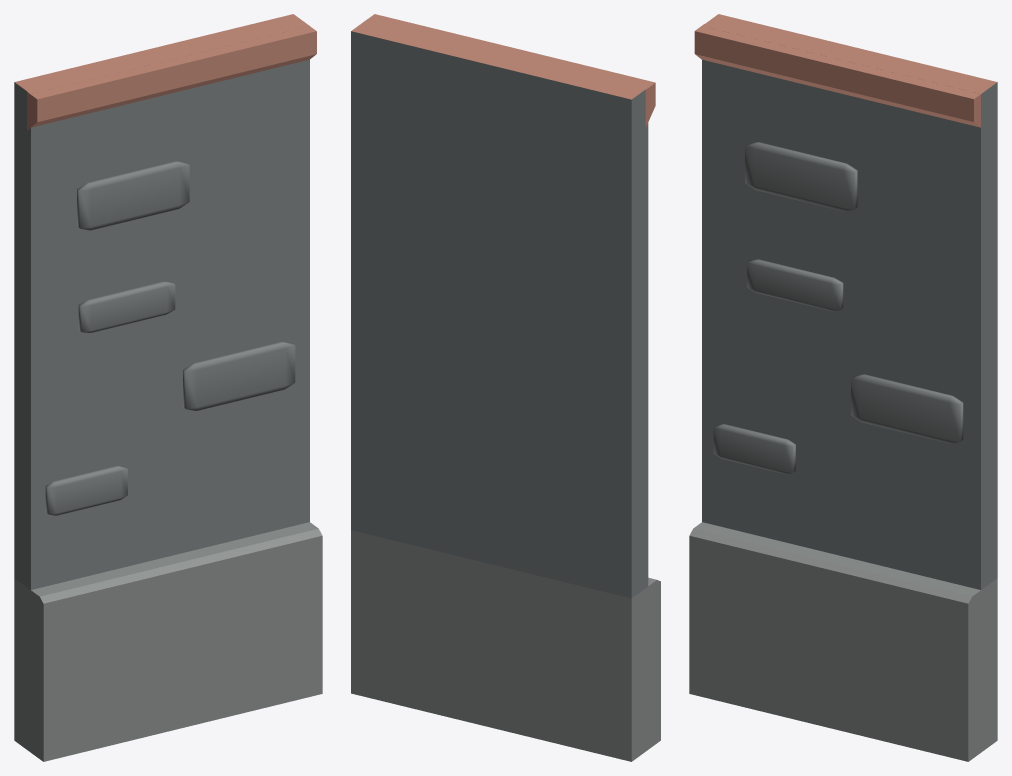
The model's file is Wall_03 1.fbx.
3 views of the same model, side by side, from view 1: azimuth 30°, elevation 25°; view 2: azimuth 150°, elevation 25°; view 3: azimuth 330°, elevation 25° (orthographic).
Visible parts, largest first — view 1: Cube.001; view 2: Cube.001; view 3: Cube.001.
Part boxes in pixels (bbox=[...]): Cube.001: bbox=[14, 14, 322, 761]; Cube.001: bbox=[351, 14, 660, 761]; Cube.001: bbox=[689, 14, 997, 761].
Size of the model in its own units: 200 by 451 by 36.09.
